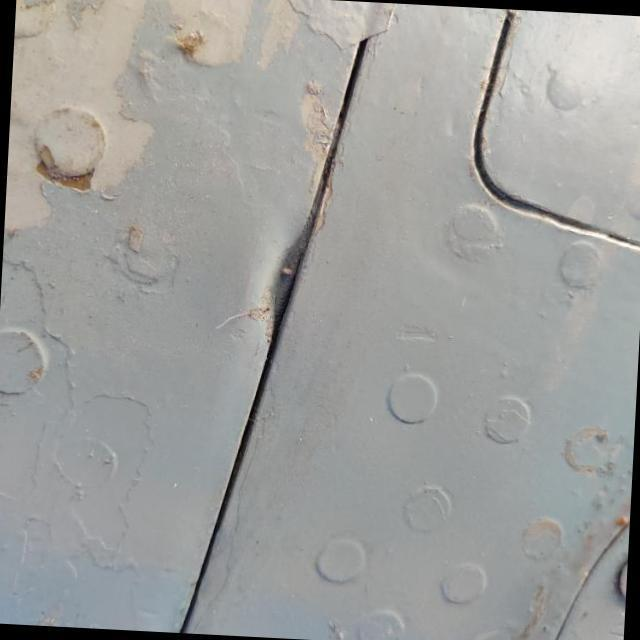Dent: (234, 220, 336, 378)
